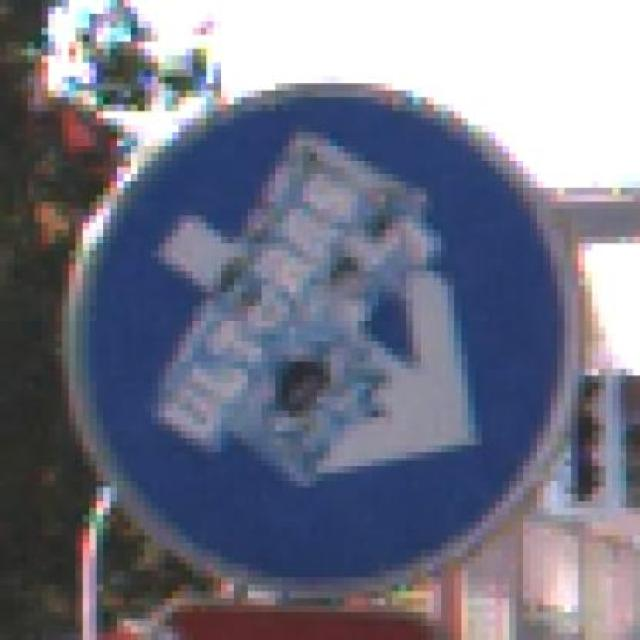Keep-Right: (48, 49, 606, 606)
